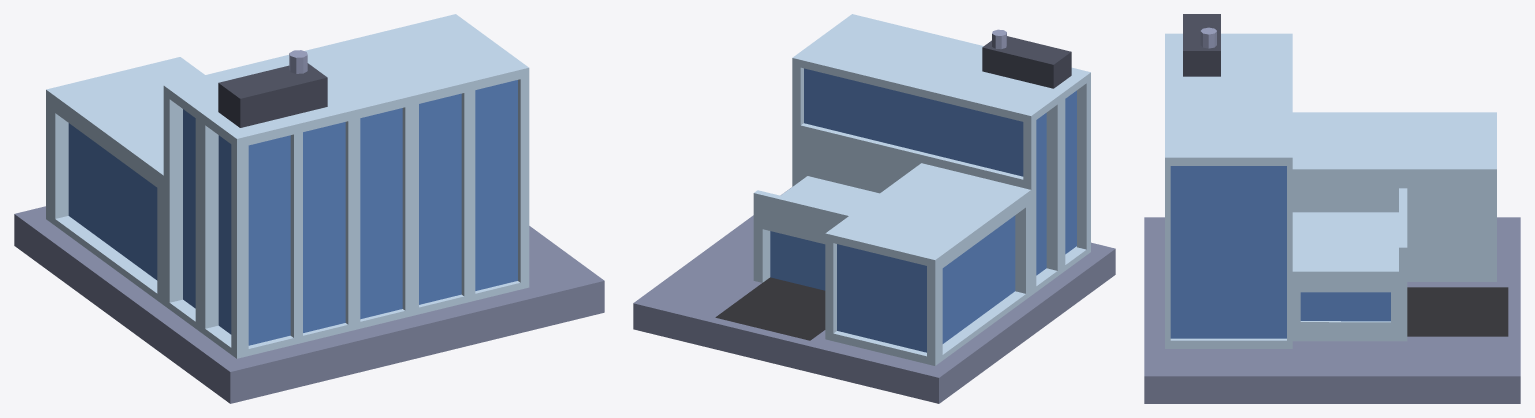
The model's file is hospital.fbx.
The picture shows the model from 3 angles, left to right: view 1: azimuth 30°, elevation 25°; view 2: azimuth 150°, elevation 25°; view 3: azimuth 270°, elevation 25°; orthographic projection. The views are drawn at different scales.
Visible parts, largest first — view 1: Cube; view 2: Cube; view 3: Cube.
Part boxes in pixels (bbox=[...]): Cube: bbox=[14, 14, 604, 403]; Cube: bbox=[633, 14, 1115, 403]; Cube: bbox=[1144, 14, 1520, 403].
Size of the model in its own units: 200 by 152 by 200.
1 material, 1 textured.
